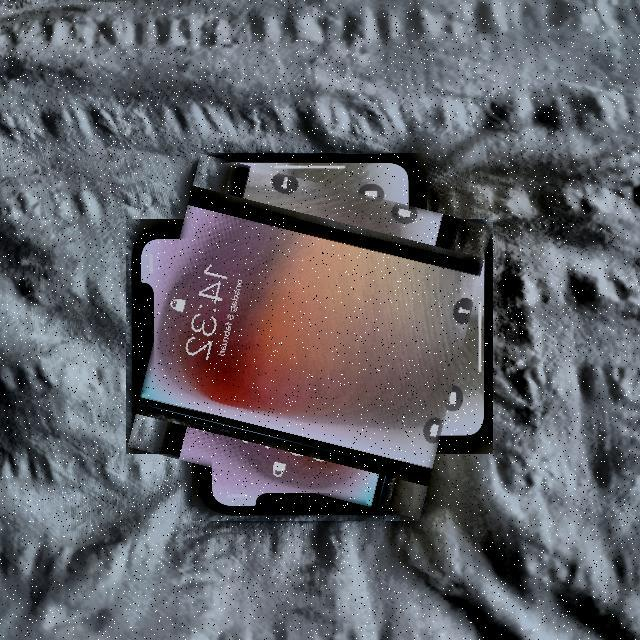Phone: (143, 171, 476, 504)
